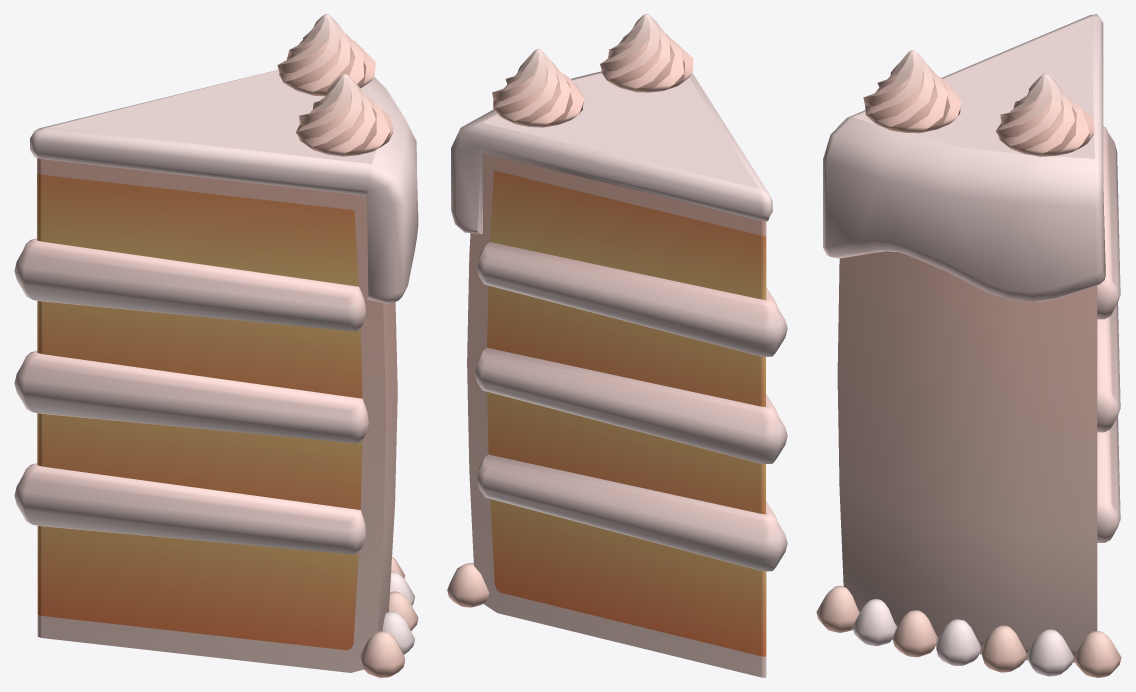
The model's file is Cake_Lemon_Slice_V2_01.fbx.
3 renders of one model, left to right at view 1: azimuth 30°, elevation 25°; view 2: azimuth 150°, elevation 25°; view 3: azimuth 270°, elevation 25°, orthographic. The views are drawn at different scales.
Parts seen in each view (by area): view 1: Cake_Lemon_Slice_V2_01; view 2: Cake_Lemon_Slice_V2_01; view 3: Cake_Lemon_Slice_V2_01.
Part boxes in pixels (x1=…): Cake_Lemon_Slice_V2_01: x1=14, y1=14, x2=418, y2=677; Cake_Lemon_Slice_V2_01: x1=447, y1=14, x2=787, y2=677; Cake_Lemon_Slice_V2_01: x1=816, y1=14, x2=1121, y2=677.
Size of the model in its own units: 34.39 by 54.17 by 25.84.
